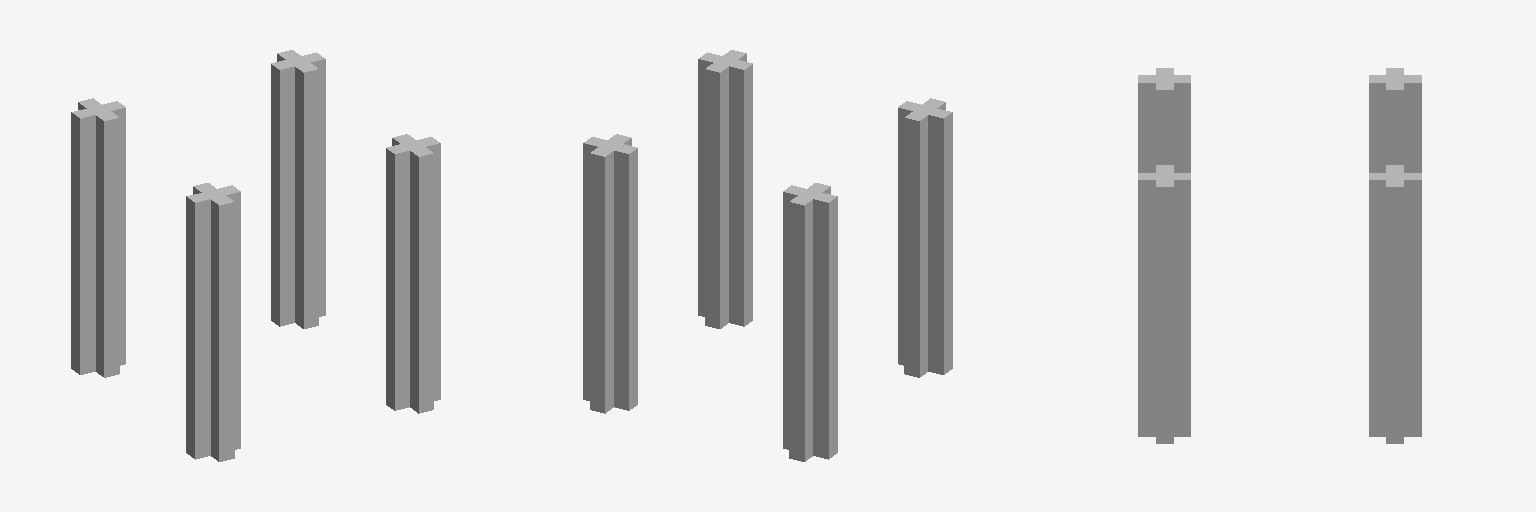
File: pole_scaffolding_cross.obj
3 renders of one model, left to right at view 1: azimuth 30°, elevation 25°; view 2: azimuth 150°, elevation 25°; view 3: azimuth 270°, elevation 25°, orthographic.
Parts seen in each view (by area): view 1: node_0_0_0.001; view 2: node_0_0_0.001; view 3: node_0_0_0.001.
Boxes of the visible parts, x1,y1,x2,y2 form: node_0_0_0.001: [71, 50, 440, 461]; node_0_0_0.001: [583, 50, 952, 461]; node_0_0_0.001: [1138, 68, 1421, 443].
Size of the model in its own units: 1 by 1 by 1.